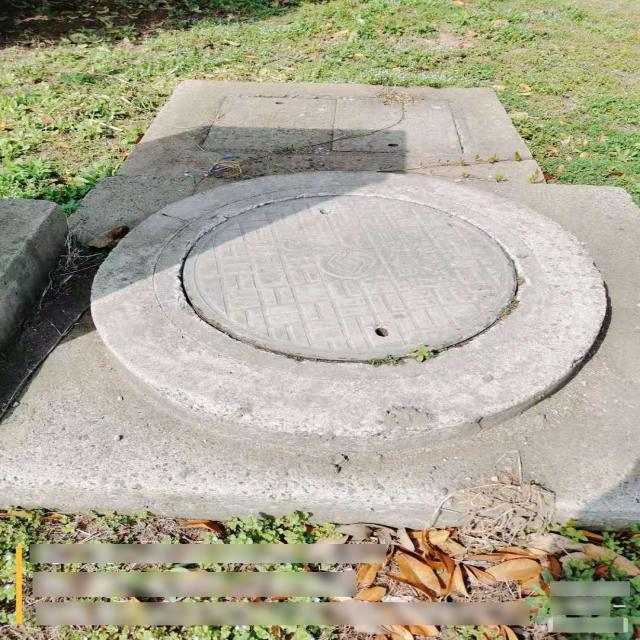Good: (154, 186, 540, 377), (198, 92, 478, 158)
